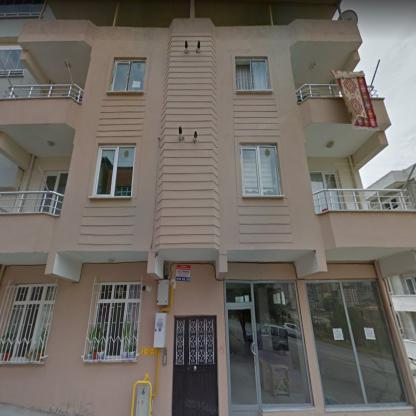door: (173, 318, 218, 414), (226, 307, 259, 410)
window: (307, 281, 410, 408), (226, 282, 312, 406), (0, 286, 55, 356), (92, 283, 140, 351), (240, 146, 280, 195), (96, 147, 135, 197), (310, 171, 342, 213), (38, 174, 68, 214), (236, 61, 269, 90), (113, 62, 145, 91), (0, 1, 44, 16), (0, 48, 22, 74)
